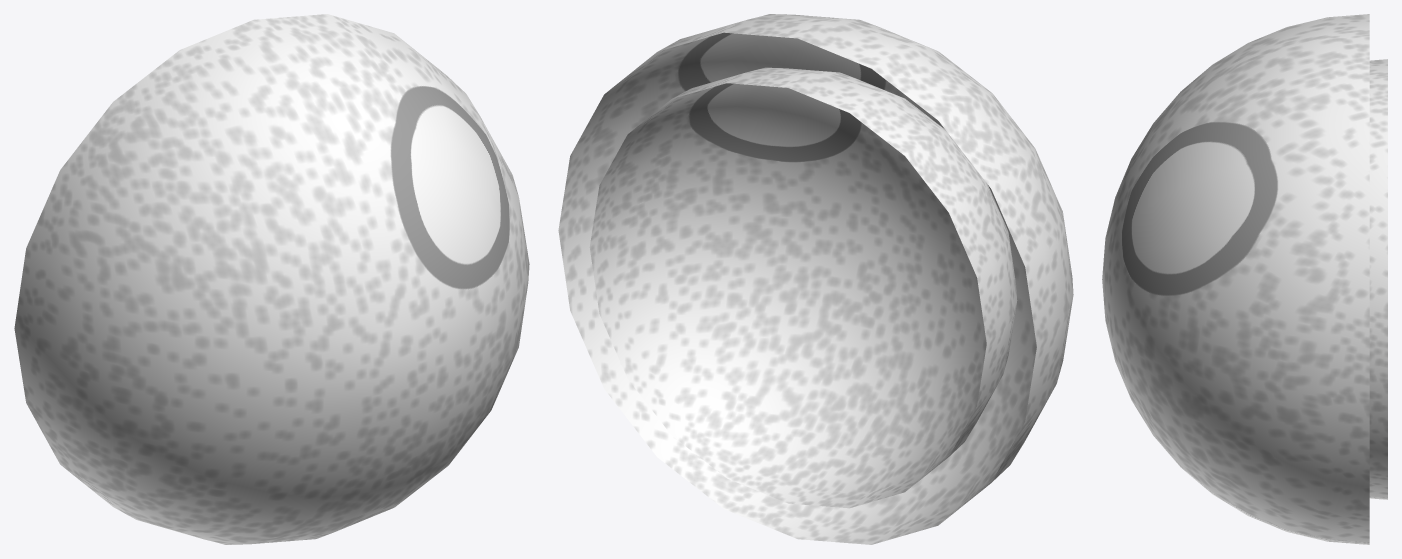
File: lightprobe.fbx
3 views of the same model, side by side, from view 1: azimuth 30°, elevation 25°; view 2: azimuth 150°, elevation 25°; view 3: azimuth 270°, elevation 25° (orthographic). The views are drawn at different scales.
Parts seen in each view (by area): view 1: pSphere1; view 2: pSphere2, pSphere1; view 3: pSphere1, pSphere2.
Part boxes in pixels (left/top/right/bottom): pSphere1: left=14, top=14, right=529, bottom=544; pSphere2: left=589, top=67, right=1017, bottom=508; pSphere1: left=558, top=14, right=1073, bottom=544; pSphere1: left=1102, top=14, right=1369, bottom=544; pSphere2: left=1369, top=59, right=1387, bottom=499.
Size of the model in its own units: 8.42 by 8.42 by 4.5.
